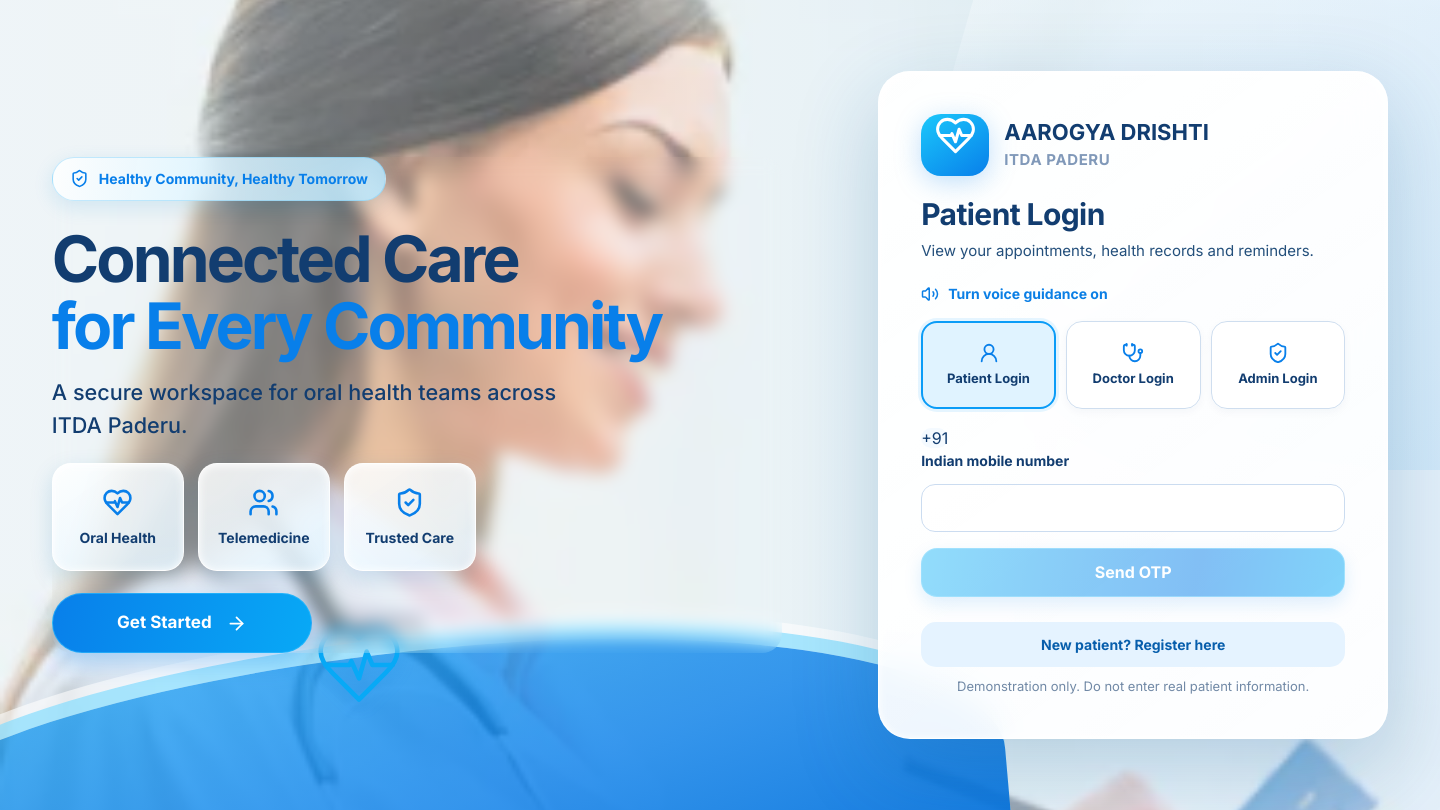
role-based login selection › explains when a registered patient account needs clinic verification
Type "9876543210" into the field labelled "Indian mobile number" at (1133, 508), box [921,484,1345,532]
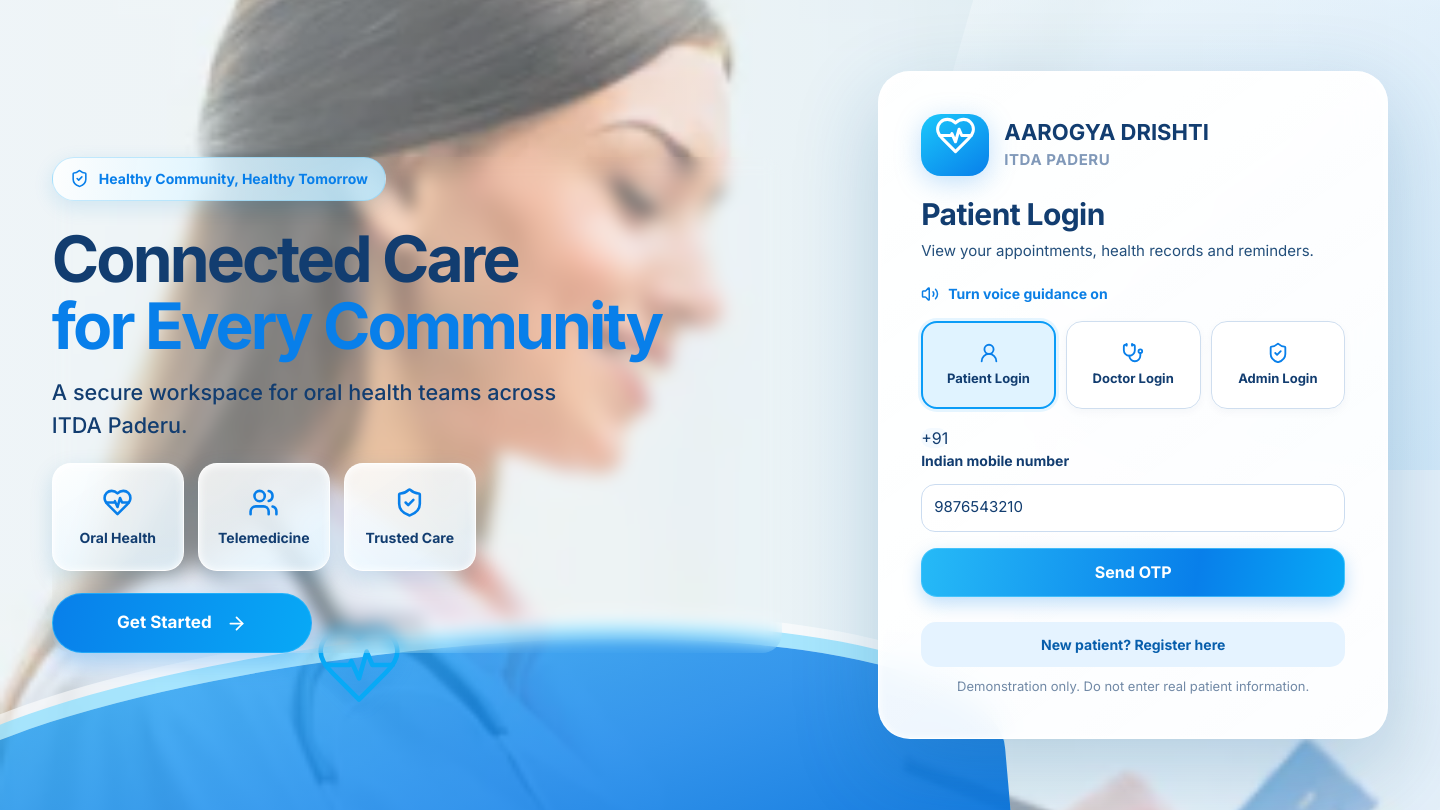
Click the button "Send OTP" at (1133, 572), box [921,548,1345,596]
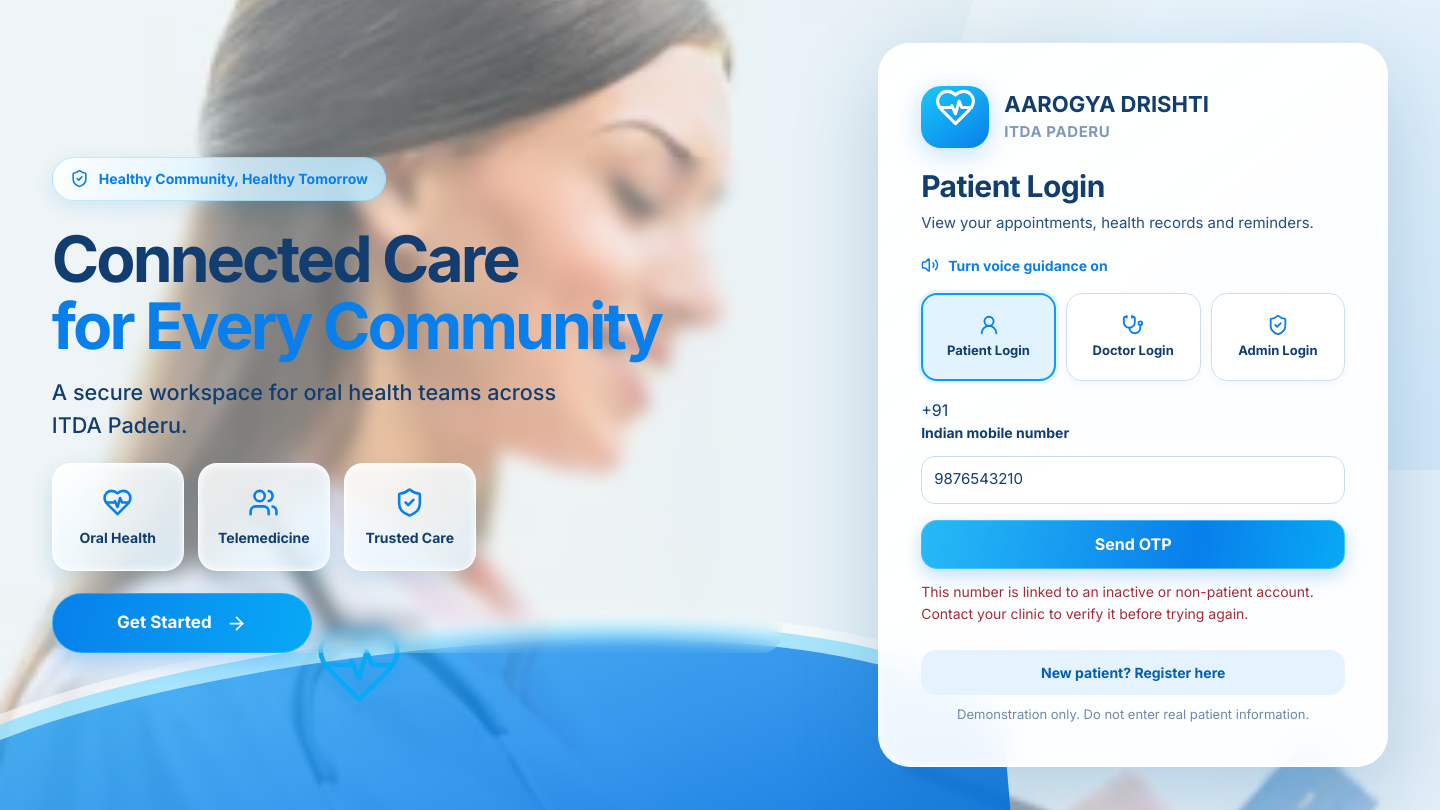
Now the message shows "This number is linked to an inactive or non-patient account. Contact your clinic to verify it before trying again.", box [921,583,1314,622]
